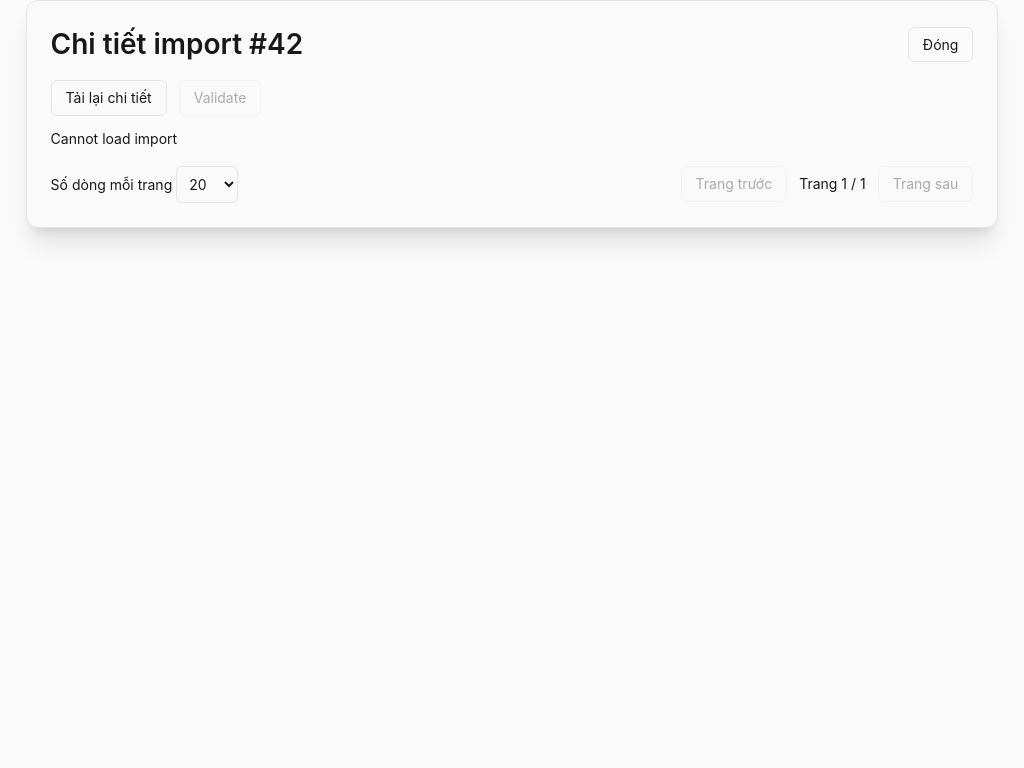
allows retry after failing to load details
Expected: the message reads "Cannot load import", [51,130,177,147]
Click the button "Tải lại chi tiết": (109, 98) [51,80,167,116]
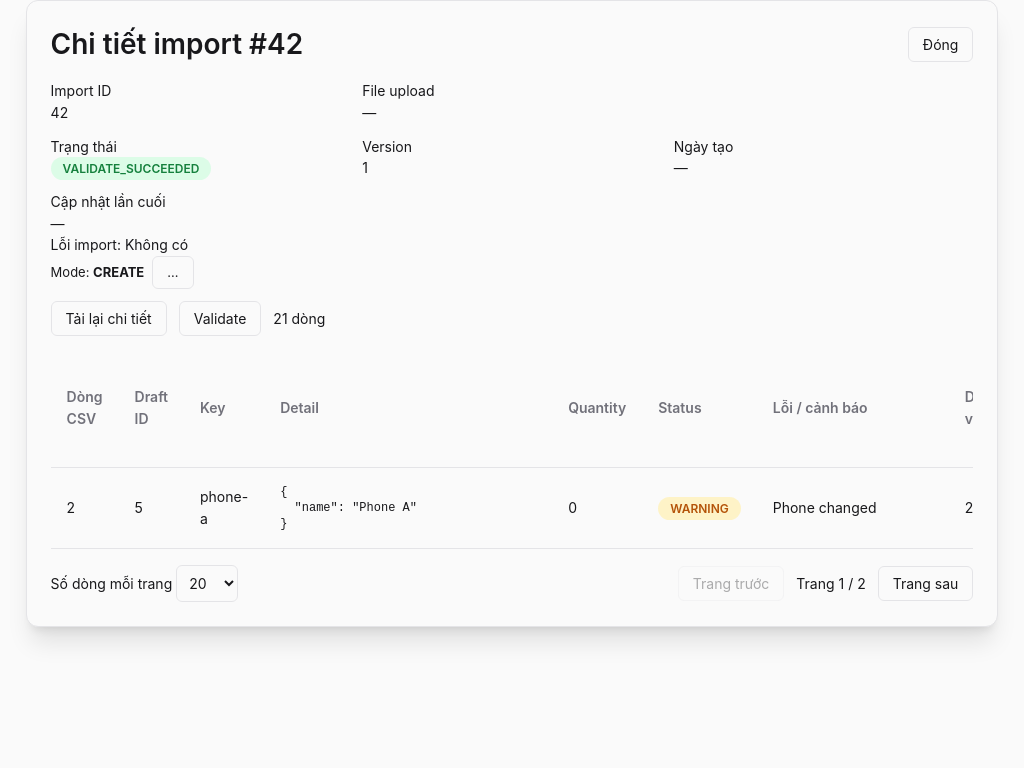
Expected: the text "phone-a" is shown, [184,468,264,548]
Expected: the message "Cannot load import" is gone
